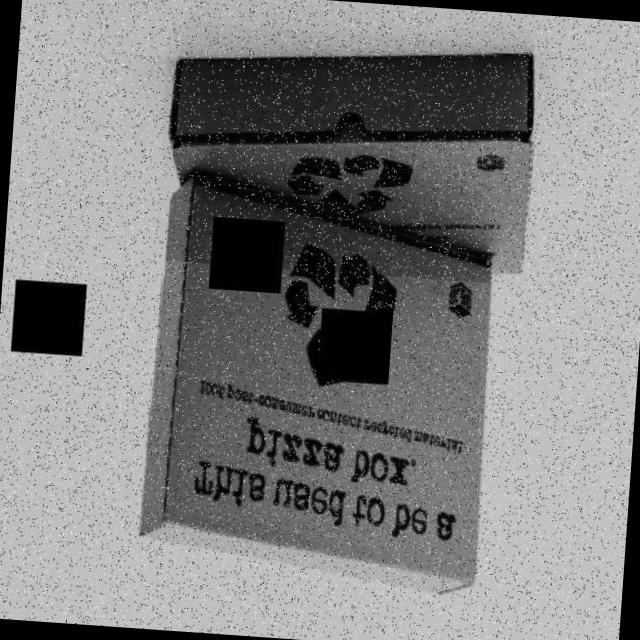box: (116, 164, 530, 622), (153, 19, 552, 286)
